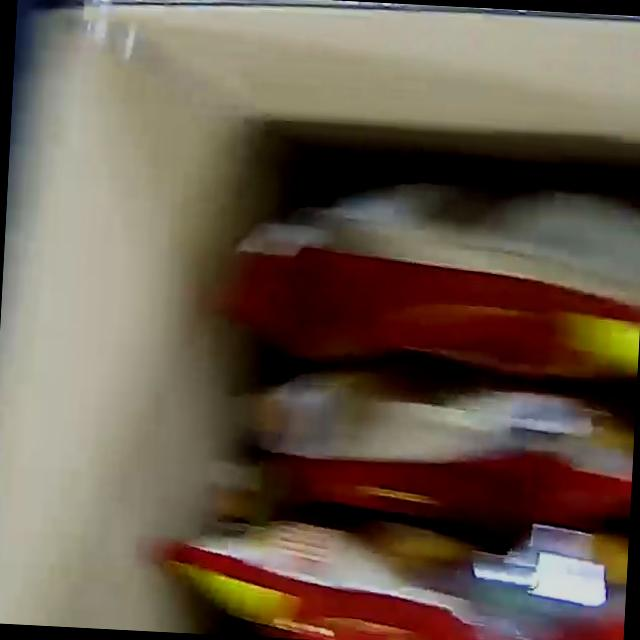masala: (133, 128, 640, 640)
